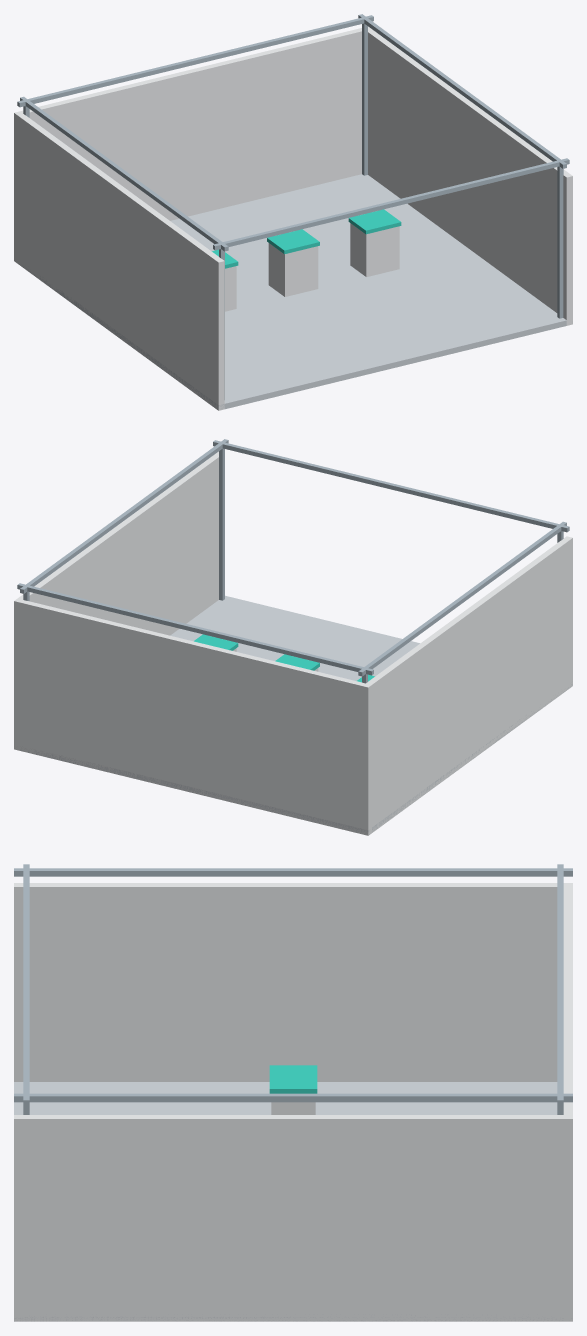
The picture shows the model from 3 angles, top to bottom: view 1: azimuth 30°, elevation 25°; view 2: azimuth 150°, elevation 25°; view 3: azimuth 270°, elevation 25°; orthographic projection. The views are drawn at different scales.
Parts seen in each view (by area): view 1: Exhibition Booth Concept; view 2: Exhibition Booth Concept; view 3: Exhibition Booth Concept.
Boxes of the visible parts, <box> form: Exhibition Booth Concept: <box>14,14,572,410</box>; Exhibition Booth Concept: <box>14,439,572,835</box>; Exhibition Booth Concept: <box>14,864,572,1321</box>.
Size of the model in its own units: 8 by 3.49 by 8.
